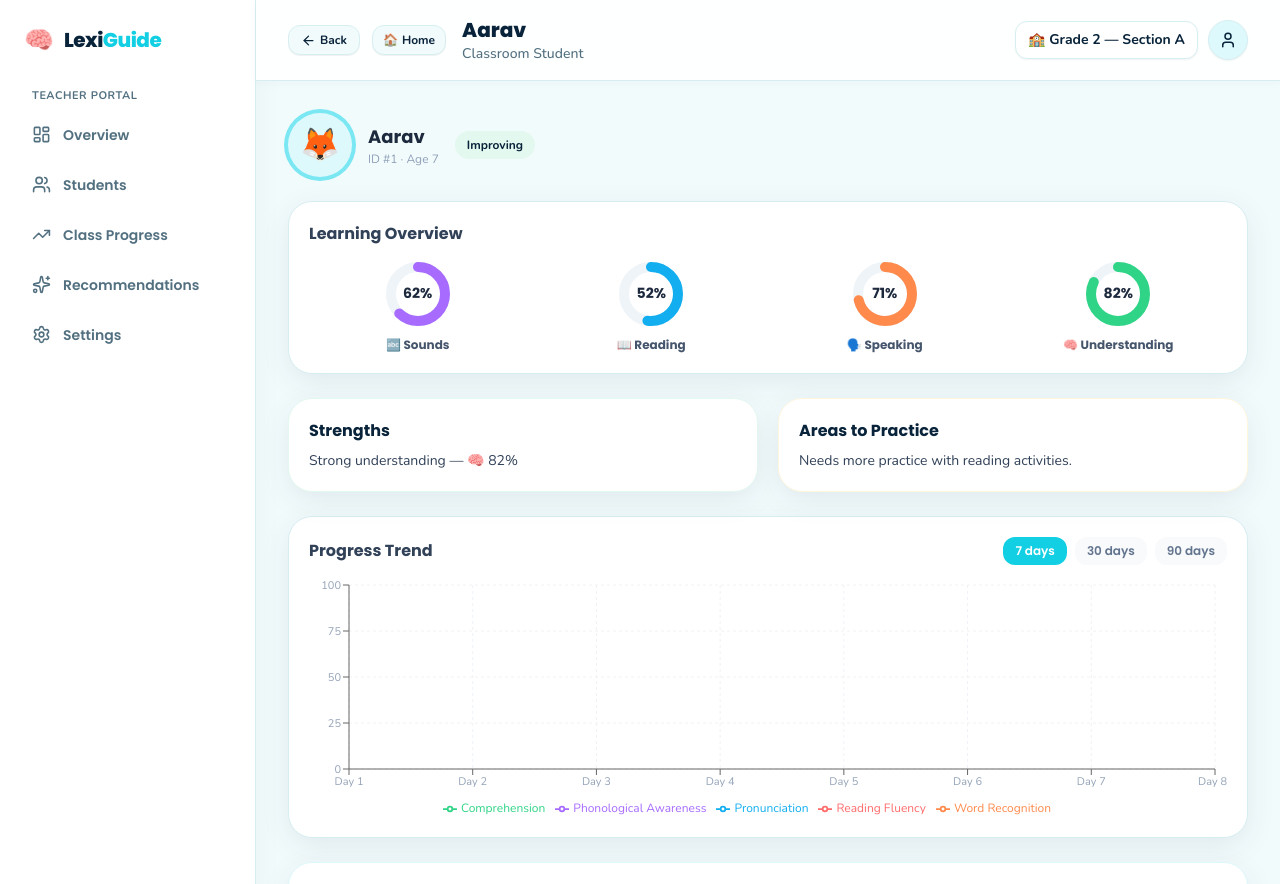
Phase 4: Teacher Experience › 9b. 7/30/90 day toggle works on individual Student Profile, labels demo data honestly
Expected: the text "Progress Trend" is shown, 309,539 -> 433,563
Click the button "30 days": (1111, 551) 1075,537 -> 1147,565
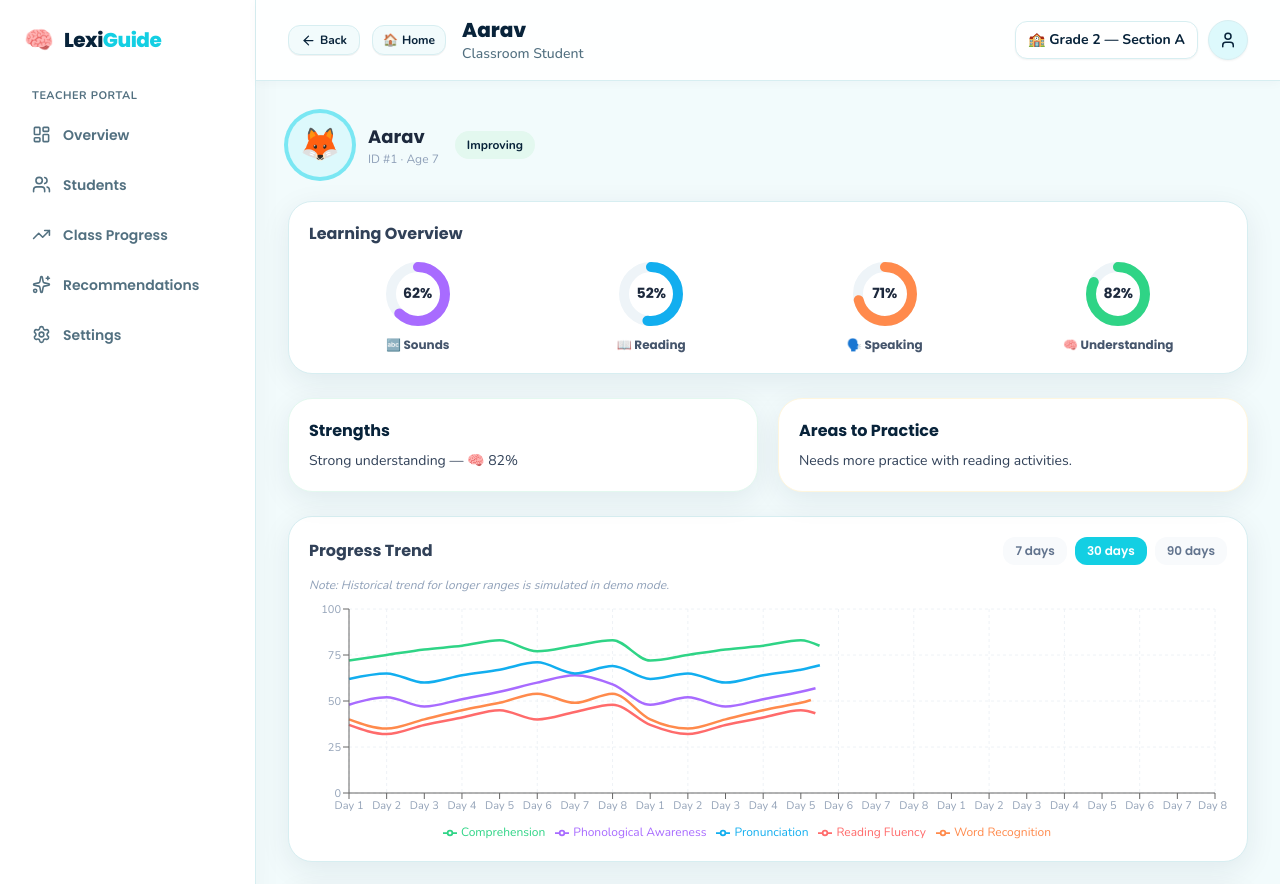
Expected: the text "simulated" is shown, 309,577 -> 669,593
